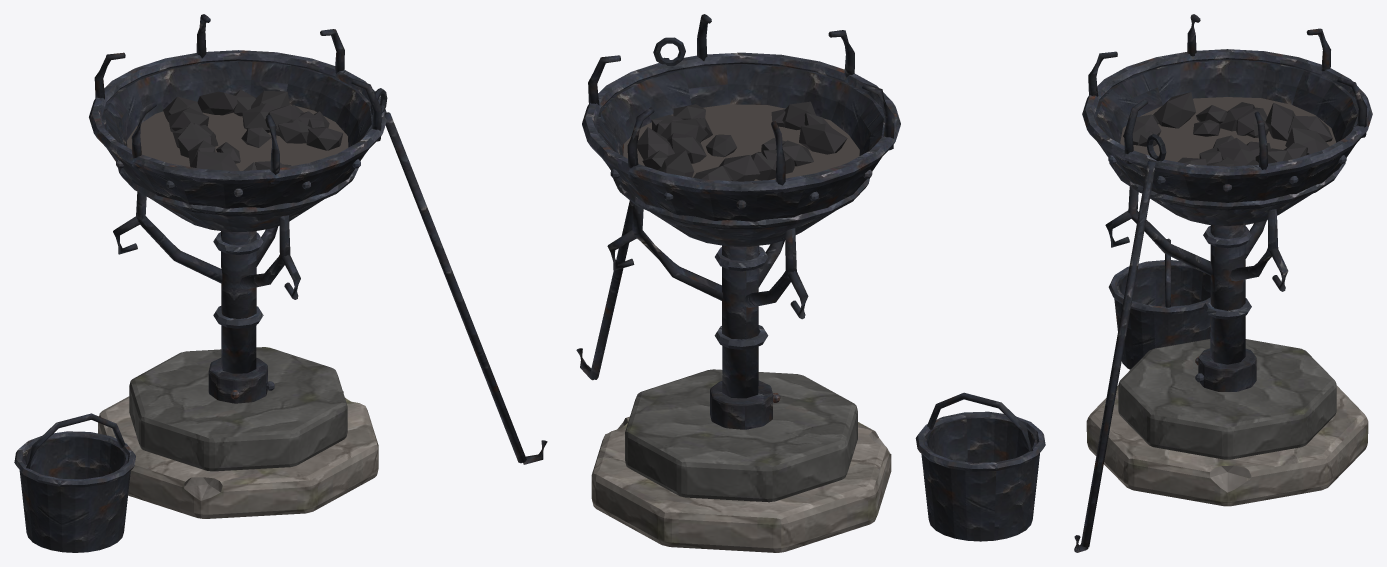
Rendered from rt_lookout_brazier.glb.
The picture shows the model from 3 angles, left to right: view 1: azimuth 30°, elevation 25°; view 2: azimuth 150°, elevation 25°; view 3: azimuth 270°, elevation 25°; orthographic projection. The views are drawn at different scales.
Visible parts, largest first — view 1: model; view 2: model; view 3: model.
Part boxes in pixels (<box>): model: <box>14,14,547,552</box>; model: <box>576,14,1045,552</box>; model: <box>1074,14,1372,552</box>.
Bounding box in the file's own units: 1.36 × 1.08 × 0.7564.
7 materials, 5 textured.
